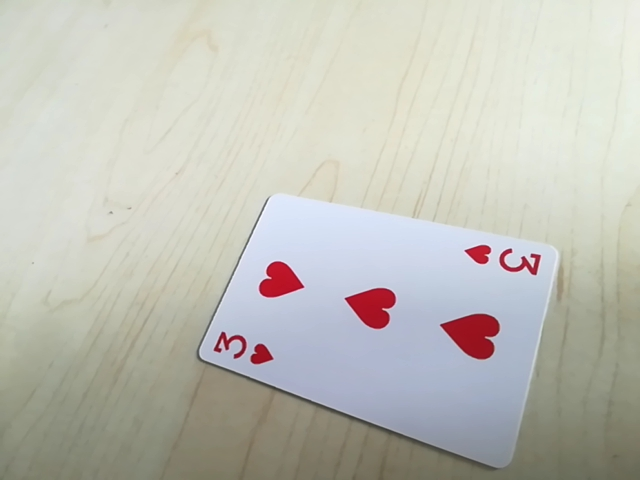hx 3: (464, 240, 545, 283), (204, 326, 276, 371)
